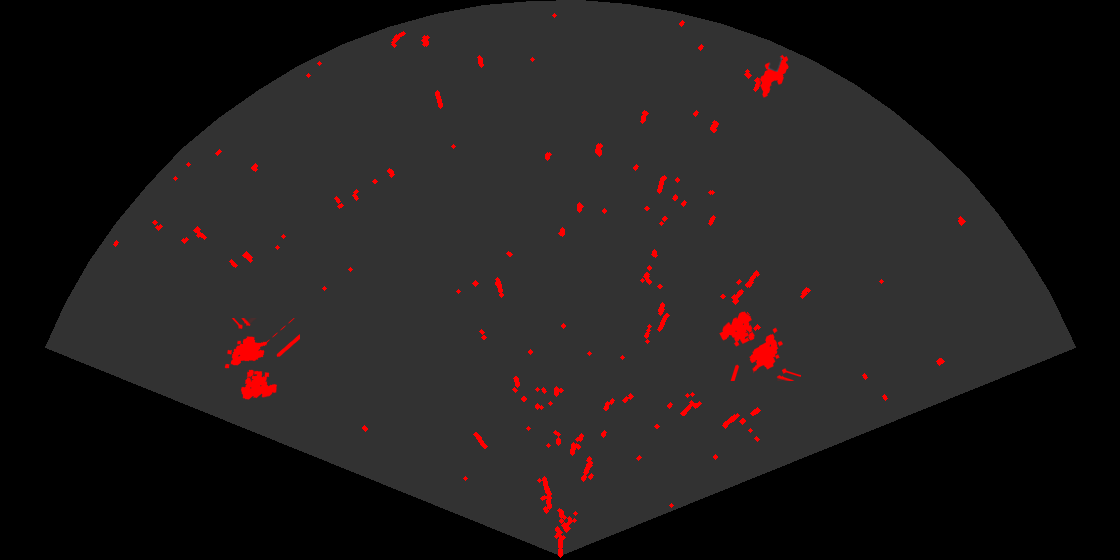AUV: (759, 53, 790, 99)
cage: (223, 318, 300, 401), (718, 310, 801, 381)
